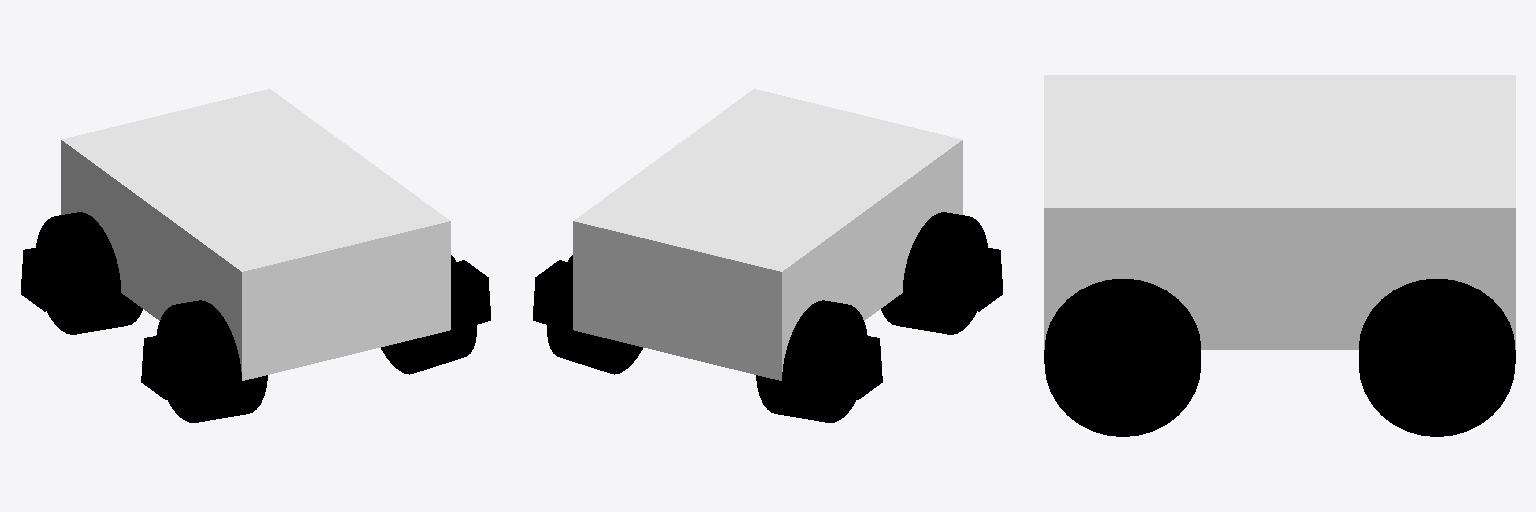
The robot description file, URDF, robot "car":
<!-- 
    需求: 长方体

 -->


<robot name="car">     

    <link name="wheel_att2">
           <visual>
                 <geometry>
                       <box size="0.04 0.04 0.03"/>
                 </geometry>
                 <origin xyz="0 0 .015"/>
                 <material name="black">
		            <color rgba="0 0 0 1"/>
		        </material>
           </visual>
     </link>
     
     <link name="wheel_att3">
           <visual>
                 <geometry>
                       <box size="0.04 0.04 0.03"/>
                 </geometry>
                 <origin xyz="0 0 .015"/>
                 <material name="black">
		            <color rgba="0 0 0 1"/>
		        </material>
           </visual>
     </link>

    <link name="base_link">
           <visual>
                 <geometry>
                       <box size="0.2 .3 .1"/>
                 </geometry>
            <origin rpy="0 0 0" xyz="0 0 0.05"/>
            <material name="white">
                <color rgba="1 1 1 1"/>
            </material>
           </visual>   
           <inertial>
			    <origin rpy="0 0 0" xyz="0 0 0"/>
			    <mass value="8.2573504e-01"/>
			    <inertia ixx="2.2124416e-03" ixy="-1.2294101e-05" ixz="3.4938785e-05" iyy="2.1193702e-03" iyz="-5.0120904e-06" izz="2.0064271e-03"/>
			</inertial>  
     </link>
     
     <link name="wheel_att1">
           <visual>
                 <geometry>
                       <box size="0.04 0.04 0.03"/>
                 </geometry>
                 <origin xyz="0 0 .015"/>
                 <material name="black">
		            <color rgba="0 0 0 1"/>
		        </material>
           </visual>
     </link>
     
     <joint name="wheel_to_att3" type="fixed">
           <parent link="wheel_3"/>
           <child link="wheel_att3"/>
           <origin rpy="0 0 0" xyz="0 0 0.025"/>
     </joint>
     
     <joint name="wheel_to_att4" type="fixed">
           <parent link="wheel_4"/>
           <child link="wheel_att4"/>
           <origin rpy="0 0 0" xyz="0 0 0.025"/>
     </joint>
     
     <link name="wheel_1">
           <visual>
                 <geometry>
                       <cylinder length="0.05" radius="0.05"/>
                 </geometry>
            <origin xyz="0 0 0"/>
               <material name="black">
                <color rgba="0 0 0 1"/>
            </material>
        </visual>
     </link>

     <link name="wheel_2">
           <visual>
                 <geometry>
                       <cylinder length="0.05" radius="0.05"/>
                 </geometry>
            <origin xyz="0 0 0"/>
               <material name="black">
		            <color rgba="0 0 0 1"/>
		        </material>
           </visual>
     </link>

     <link name="wheel_3">
           <visual>
                 <geometry>
                       <cylinder length="0.05" radius="0.05"/>
                 </geometry>
            <origin xyz="0 0 0"/>
               <material name="black">
		            <color rgba="0 0 0 1"/>
		        </material>
           </visual>
     </link>

     <link name="wheel_4">
           <visual>
                 <geometry>
                       <cylinder length="0.05" radius="0.05"/>
                 </geometry>
            <origin xyz="0 0 0"/>
               <material name="black">
		            <color rgba="0 0 0 1"/>
		        </material>
           </visual>
     </link>
     
     <joint name="base_to_wheel4" type="fixed">
           <parent link="base_link"/>
           <child link="wheel_4"/>
           <origin rpy="0 -1.5 0" xyz="-0.1 -0.1 0"/>
     </joint>
     
     <joint name="base_to_wheel1" type="fixed">
           <parent link="base_link"/>
           <child link="wheel_1"/>
           <origin rpy="0 1.5 0" xyz="0.1 0.1 0"/>
     </joint>

     <joint name="base_to_wheel2" type="fixed">
           <parent link="base_link"/>
           <child link="wheel_2"/>
           <origin rpy="0 -1.5 0" xyz="-0.1 0.1 0"/>
     </joint>

     <joint name="base_to_wheel3" type="fixed">
           <parent link="base_link"/>
           <child link="wheel_3"/>
           <origin rpy="0 1.5 0" xyz="0.1 -0.1 0"/>
     </joint>

             
     
     
     <link name="wheel_att4">
           <visual>
                 <geometry>
                       <box size="0.04 0.04 0.03"/>
                 </geometry>
                 <origin xyz="0 0 .015"/>
                 <material name="black">
		            <color rgba="0 0 0 1"/>
		        </material>
           </visual>
     </link>
     
     <joint name="wheel_to_att1" type="fixed">
           <parent link="wheel_1"/>
           <child link="wheel_att1"/>
           <origin rpy="0 0 0" xyz="0 0 0.025"/>
     </joint>
     
     <joint name="wheel_to_att2" type="fixed">
           <parent link="wheel_2"/>
           <child link="wheel_att2"/>
           <origin rpy="0 0 0" xyz="0 0 0.025"/>
     </joint>
     
     
     
</robot>

--- Facts derived from the render (not from the file) ---
The picture shows the robot from 3 angles, left to right: view 1: azimuth 30°, elevation 25°; view 2: azimuth 150°, elevation 25°; view 3: azimuth 270°, elevation 25°; orthographic projection.
Model car with 9 links and 8 joints (8 fixed), rooted at base_link, posed all joints at 0.
Links seen in each view (by area): view 1: base_link, wheel_4, wheel_2, wheel_3, wheel_att2, wheel_att4, wheel_att3; view 2: base_link, wheel_2, wheel_4, wheel_1, wheel_att4, wheel_att2, wheel_att1; view 3: base_link, wheel_1, wheel_3, wheel_att3, wheel_att1.
Boxes of the visible links, <box> form: base_link: <box>61,89,450,380</box>; wheel_4: <box>156,300,267,422</box>; wheel_2: <box>36,212,142,334</box>; wheel_3: <box>381,255,476,374</box>; wheel_att2: <box>21,244,78,311</box>; wheel_att4: <box>141,333,198,399</box>; wheel_att3: <box>457,260,490,324</box>; base_link: <box>573,89,962,380</box>; wheel_2: <box>756,300,867,422</box>; wheel_4: <box>881,212,987,334</box>; wheel_1: <box>547,255,642,374</box>; wheel_att4: <box>945,244,1002,311</box>; wheel_att2: <box>825,333,882,399</box>; wheel_att1: <box>533,260,566,324</box>; base_link: <box>1044,75,1515,349</box>; wheel_1: <box>1359,279,1515,436</box>; wheel_3: <box>1044,279,1200,436</box>; wheel_att3: <box>1092,335,1153,409</box>; wheel_att1: <box>1406,335,1467,409</box>.
Bounding box of the posed robot: 0.3126 × 0.3 × 0.1516 m (x, y, z).
Geometry: primitives only (box / cylinder / sphere), no mesh files.
